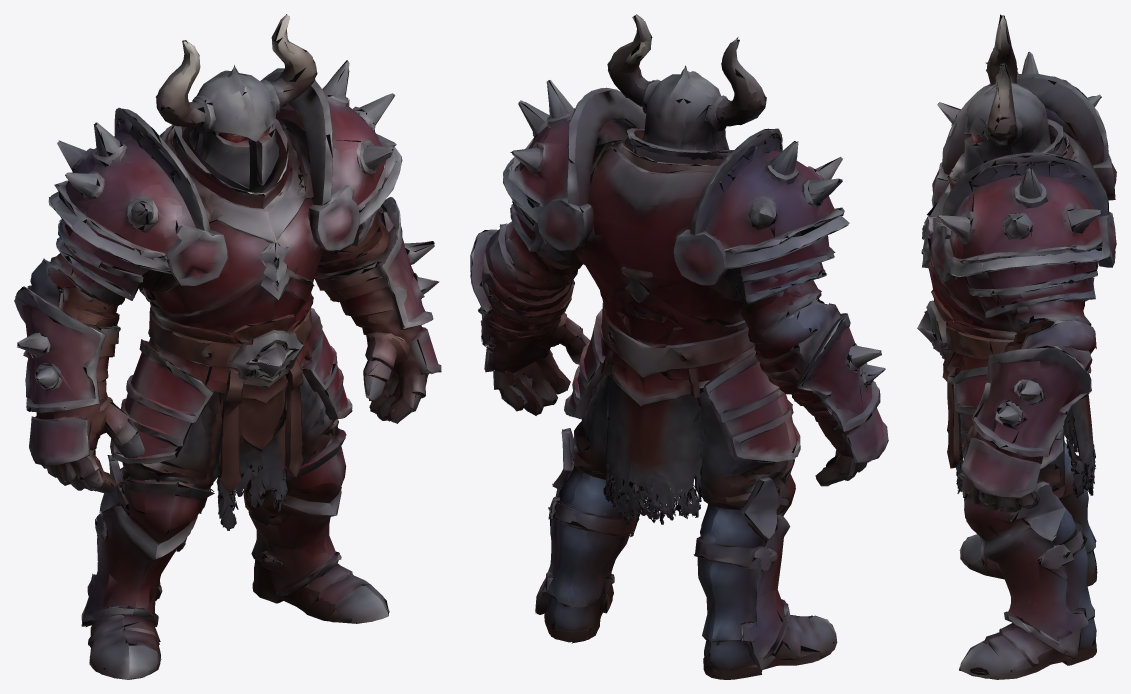
The model's file is brute.fbx.
3 renders of one model, left to right at view 1: azimuth 30°, elevation 25°; view 2: azimuth 150°, elevation 25°; view 3: azimuth 270°, elevation 25°, orthographic. The views are drawn at different scales.
Parts seen in each view (by area): view 1: geometry_0.001; view 2: geometry_0.001; view 3: geometry_0.001.
Part boxes in pixels (bbox=[...]): geometry_0.001: bbox=[14, 14, 441, 679]; geometry_0.001: bbox=[470, 14, 888, 679]; geometry_0.001: bbox=[917, 14, 1116, 679].
Bounding box in the file's own units: 71.9 × 100 × 31.43.
Materials: 1 (1 with a texture image).
